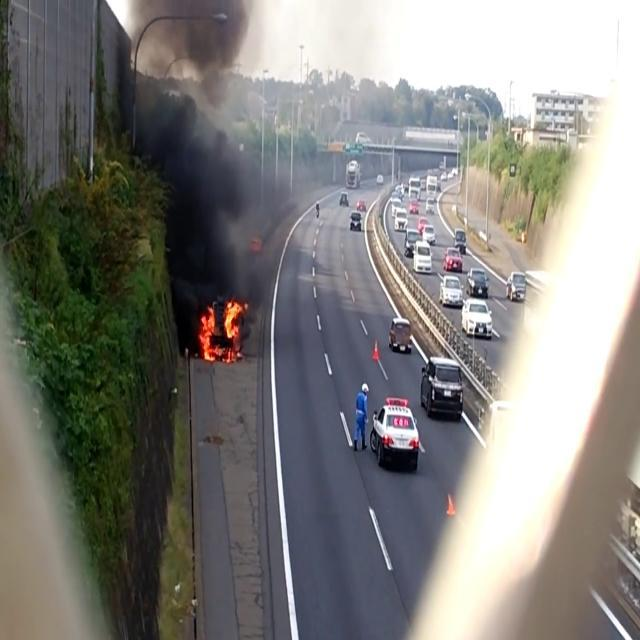Fire: (197, 289, 250, 363)
Smoke: (110, 0, 274, 290)
